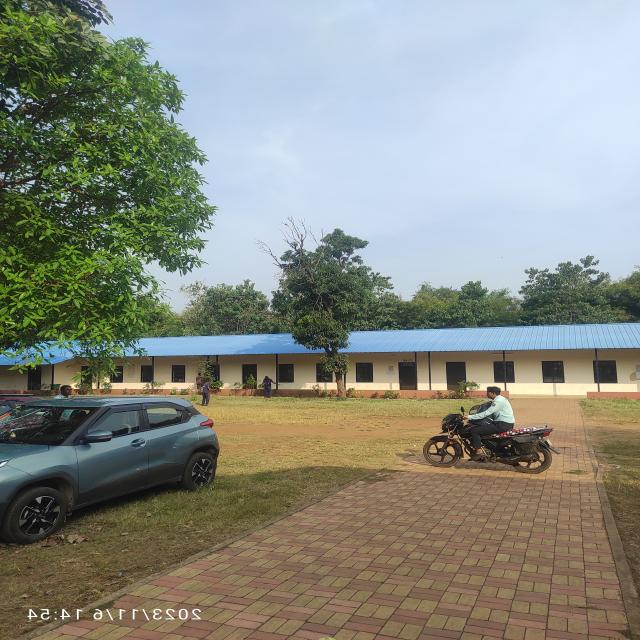Mango Tree: (298, 231, 379, 375)
